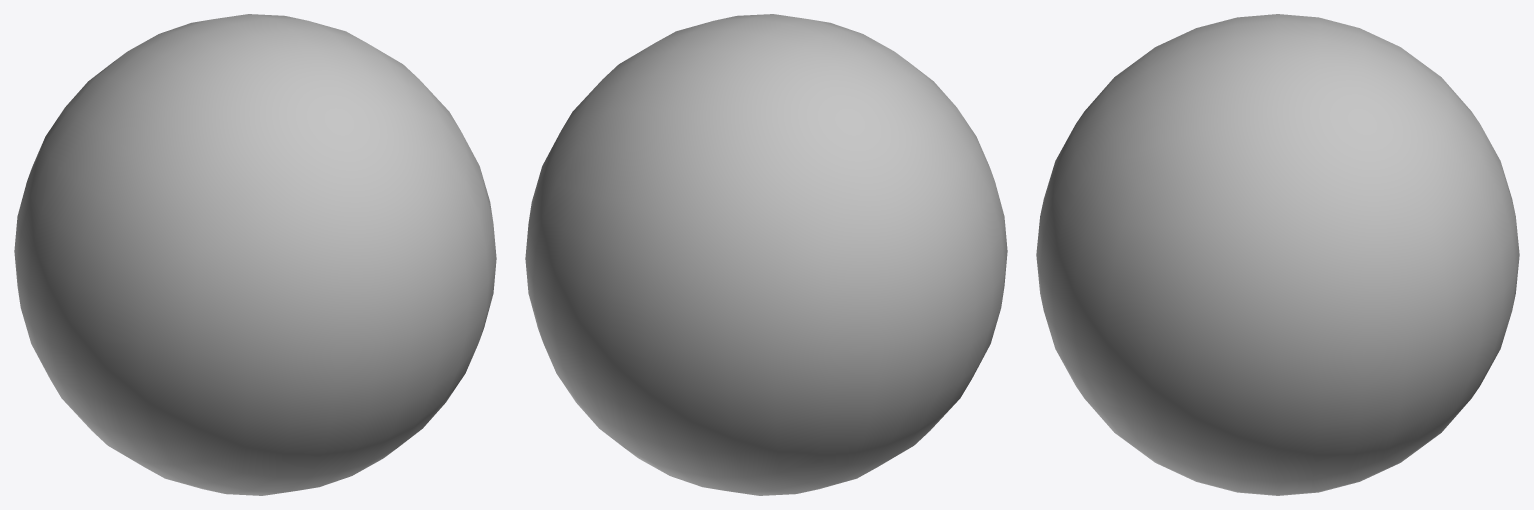
Rendered from b_golfball_4_5.gltf.
3 renders of one model, left to right at view 1: azimuth 30°, elevation 25°; view 2: azimuth 150°, elevation 25°; view 3: azimuth 270°, elevation 25°, orthographic.
Visible parts, largest first — view 1: g_golfball; view 2: g_golfball; view 3: g_golfball.
Boxes of the visible parts, x1,y1,x2,y2 form: g_golfball: [14, 14, 496, 495]; g_golfball: [525, 14, 1007, 495]; g_golfball: [1036, 14, 1519, 495].
Bounding box in the file's own units: 4.27 × 4.27 × 4.27.
1 material, 1 textured.
